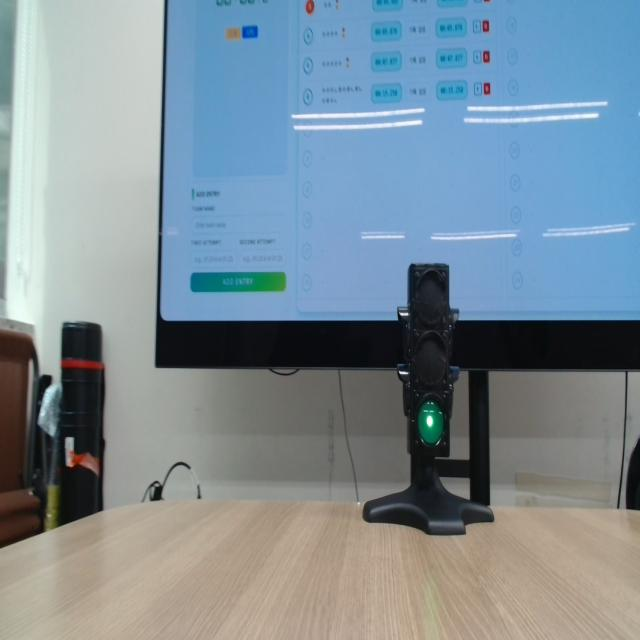green_light: (418, 401, 444, 445)
